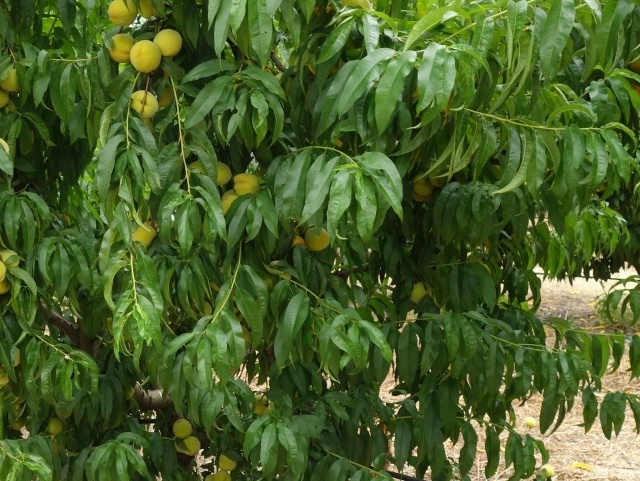peach: (128, 38, 167, 75), (101, 30, 137, 69), (125, 84, 160, 124), (147, 28, 184, 61), (303, 222, 336, 259), (231, 169, 264, 203), (125, 221, 159, 253), (103, 1, 141, 28), (406, 276, 436, 306), (412, 168, 439, 198), (218, 182, 249, 208), (208, 157, 235, 186), (212, 449, 241, 476), (131, 1, 159, 25), (169, 416, 194, 442), (1, 65, 25, 92), (1, 245, 25, 271), (181, 430, 203, 458)
